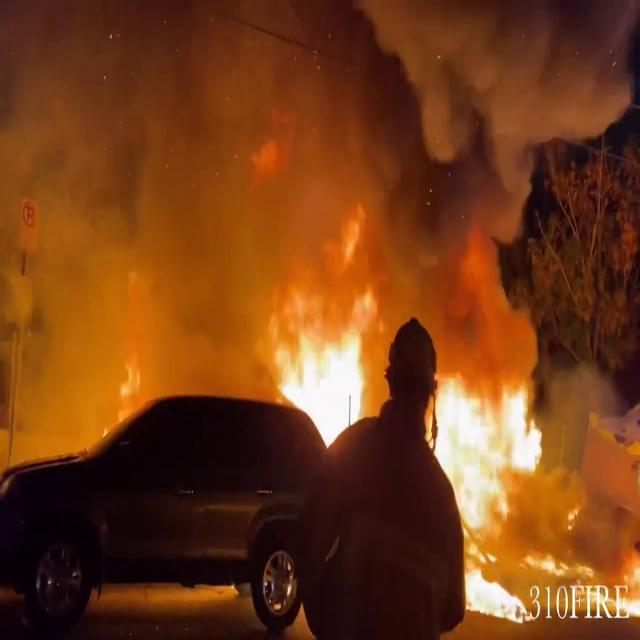Fire: (424, 355, 598, 625), (262, 315, 376, 449)
Smoke: (1, 0, 590, 333)
